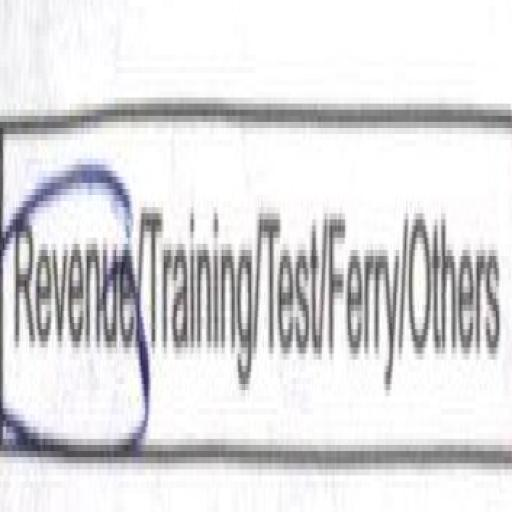check: (0, 73, 140, 494)
